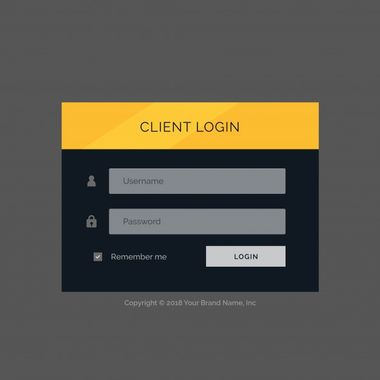_form_: (1, 1, 380, 380)
button: (204, 244, 288, 268)
checkbox: (92, 250, 104, 262)
checkbox_with_label: (89, 248, 168, 264)
field: (107, 166, 288, 195), (108, 208, 286, 236)
